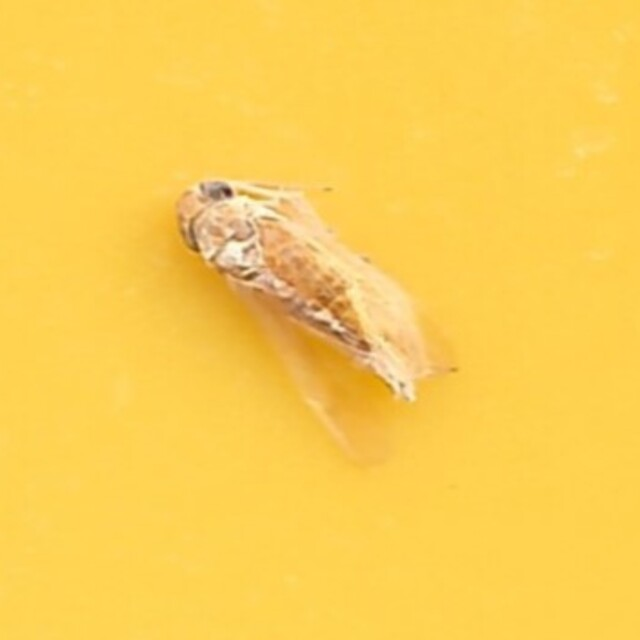Hemiptera: (182, 173, 458, 467)
